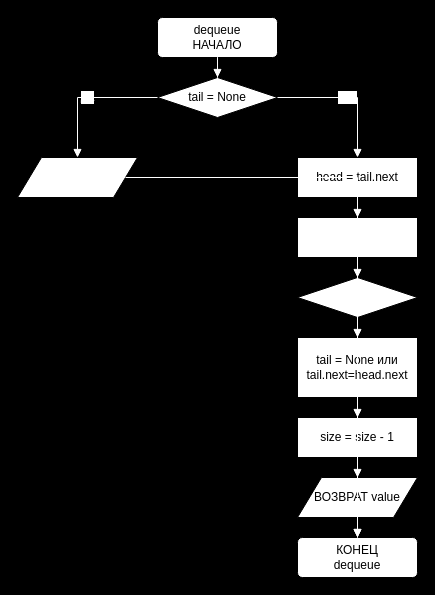
The diagram is 435 pixels wide and 595 high, and some of its shapes have lost their labels. The centre of each missing label's shape, as x and y in pixels:
"tail = head" goes at point 357,297.
"value = head.data" goes at point 357,237.
"ВОЗВРАТ None" goes at point 77,177.
